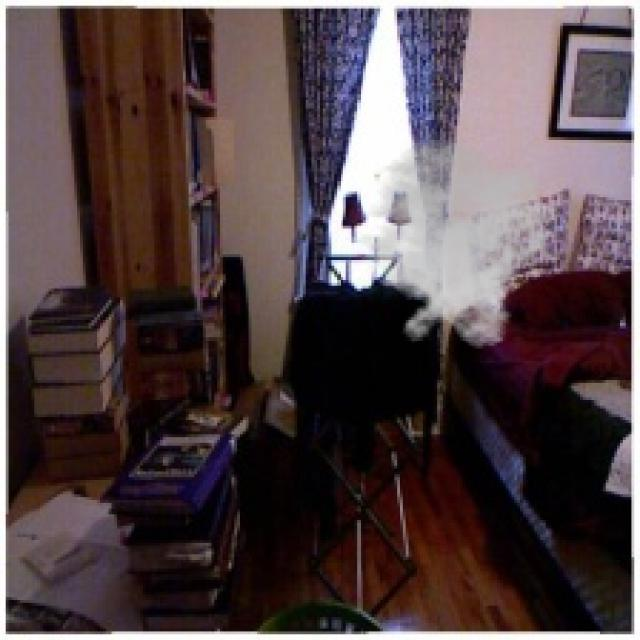Smoke: (343, 137, 560, 349)
